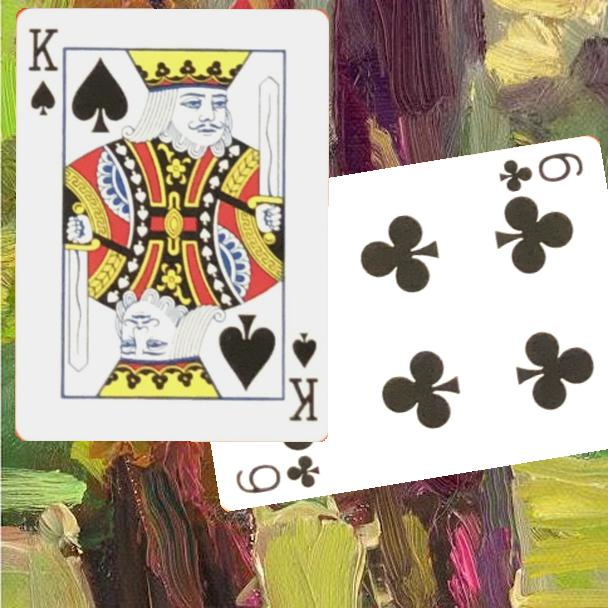c06: (495, 149, 586, 196), (232, 452, 322, 497)
s13: (284, 328, 321, 424), (24, 24, 60, 118)
